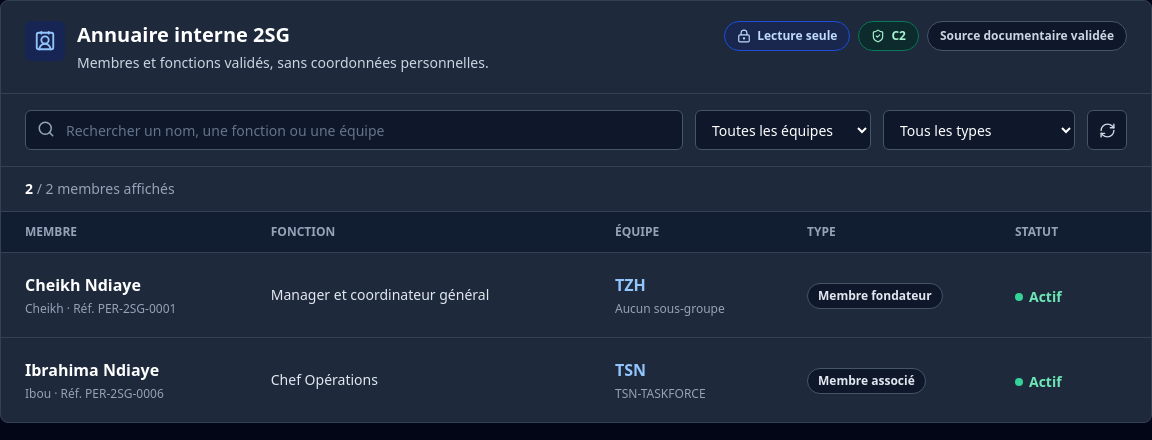
it: filters directory members without requesting another endpoint
Expected: the text "Cheikh Ndiaye" is shown, x1=25 y1=274 x2=141 y2=296
In the search field with placeholder "Rechercher un nom, une fonction ou une équipe": (354, 130) x1=25 y1=110 x2=683 y2=150, type "Ibou"
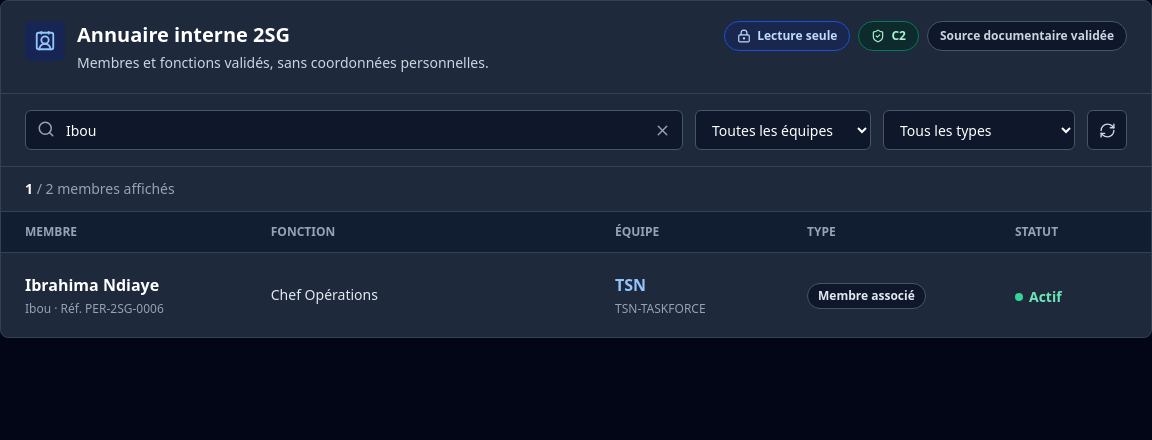
Expected: the text "Ibrahima Ndiaye" is shown, x1=25 y1=274 x2=159 y2=296
Expected: the text "Cheikh Ndiaye" is gone
